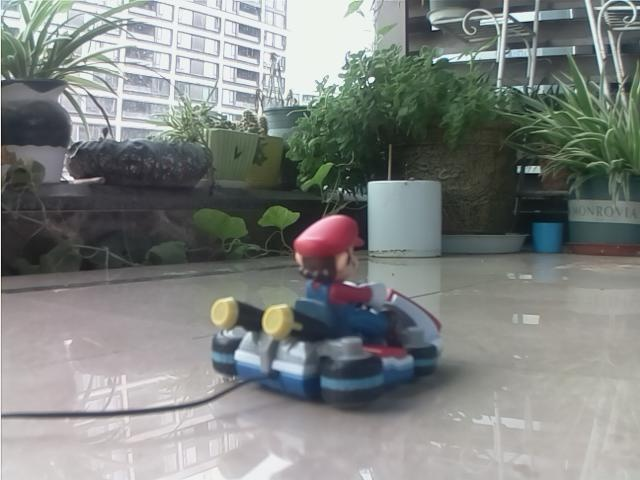mario: (205, 204, 453, 412)
